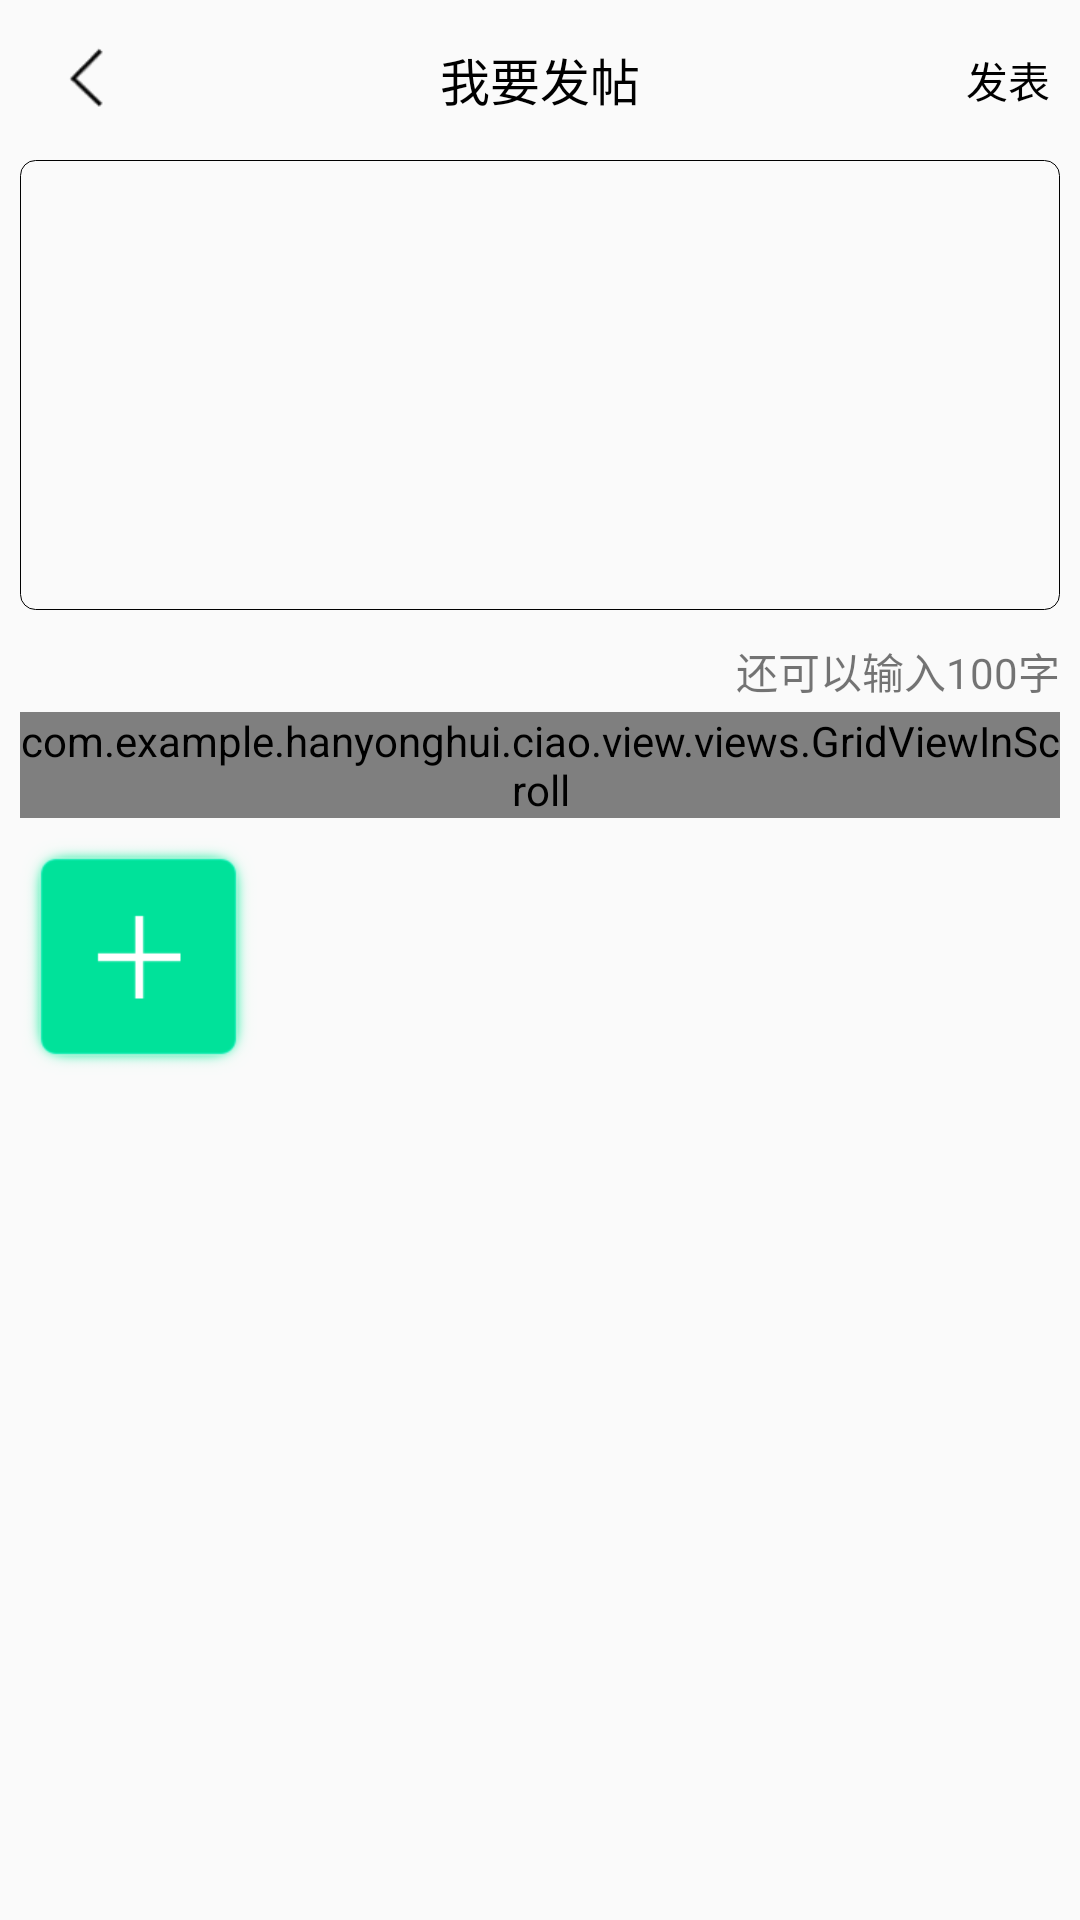

Where icons sit on this 1080 x 1920 app screen, as Rect(x1, y1, x2, y2):
add pictures: Rect(33, 851, 244, 1062)
back: Rect(70, 49, 103, 107)
